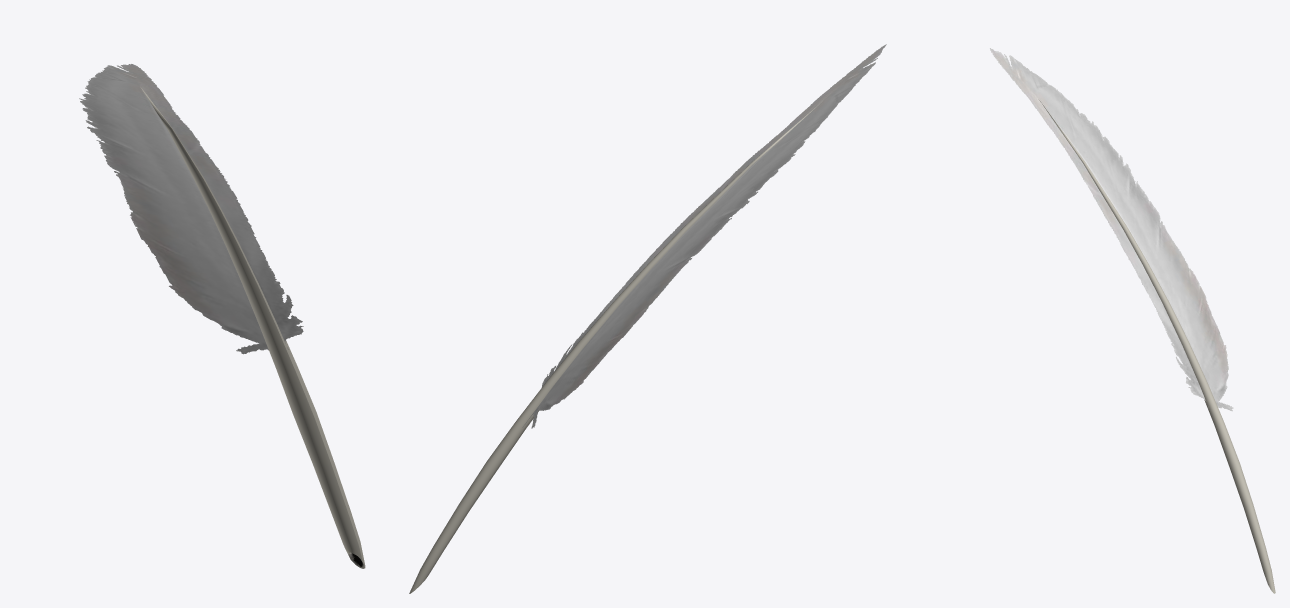
The model's file is feather.fbx.
The picture shows the model from 3 angles, left to right: view 1: azimuth 30°, elevation 25°; view 2: azimuth 150°, elevation 25°; view 3: azimuth 270°, elevation 25°; orthographic projection. The views are drawn at different scales.
Visible parts, largest first — view 1: defaultMaterial; view 2: defaultMaterial; view 3: defaultMaterial.
Part boxes in pixels (box(x1,y1,x2,y2)): defaultMaterial: box(79, 64, 365, 568); defaultMaterial: box(409, 44, 886, 593); defaultMaterial: box(990, 48, 1275, 593).
Size of the model in its own units: 376 by 514 by 351.
Materials: 1 (1 with a texture image).
